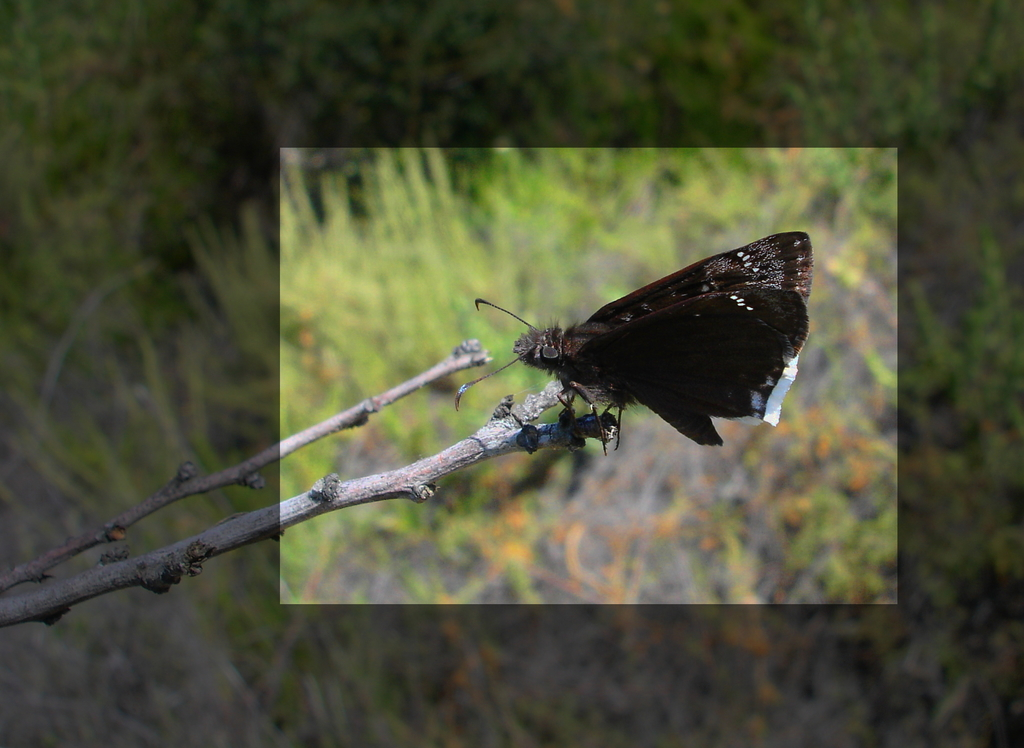Butterfly: (480, 229, 825, 455)
